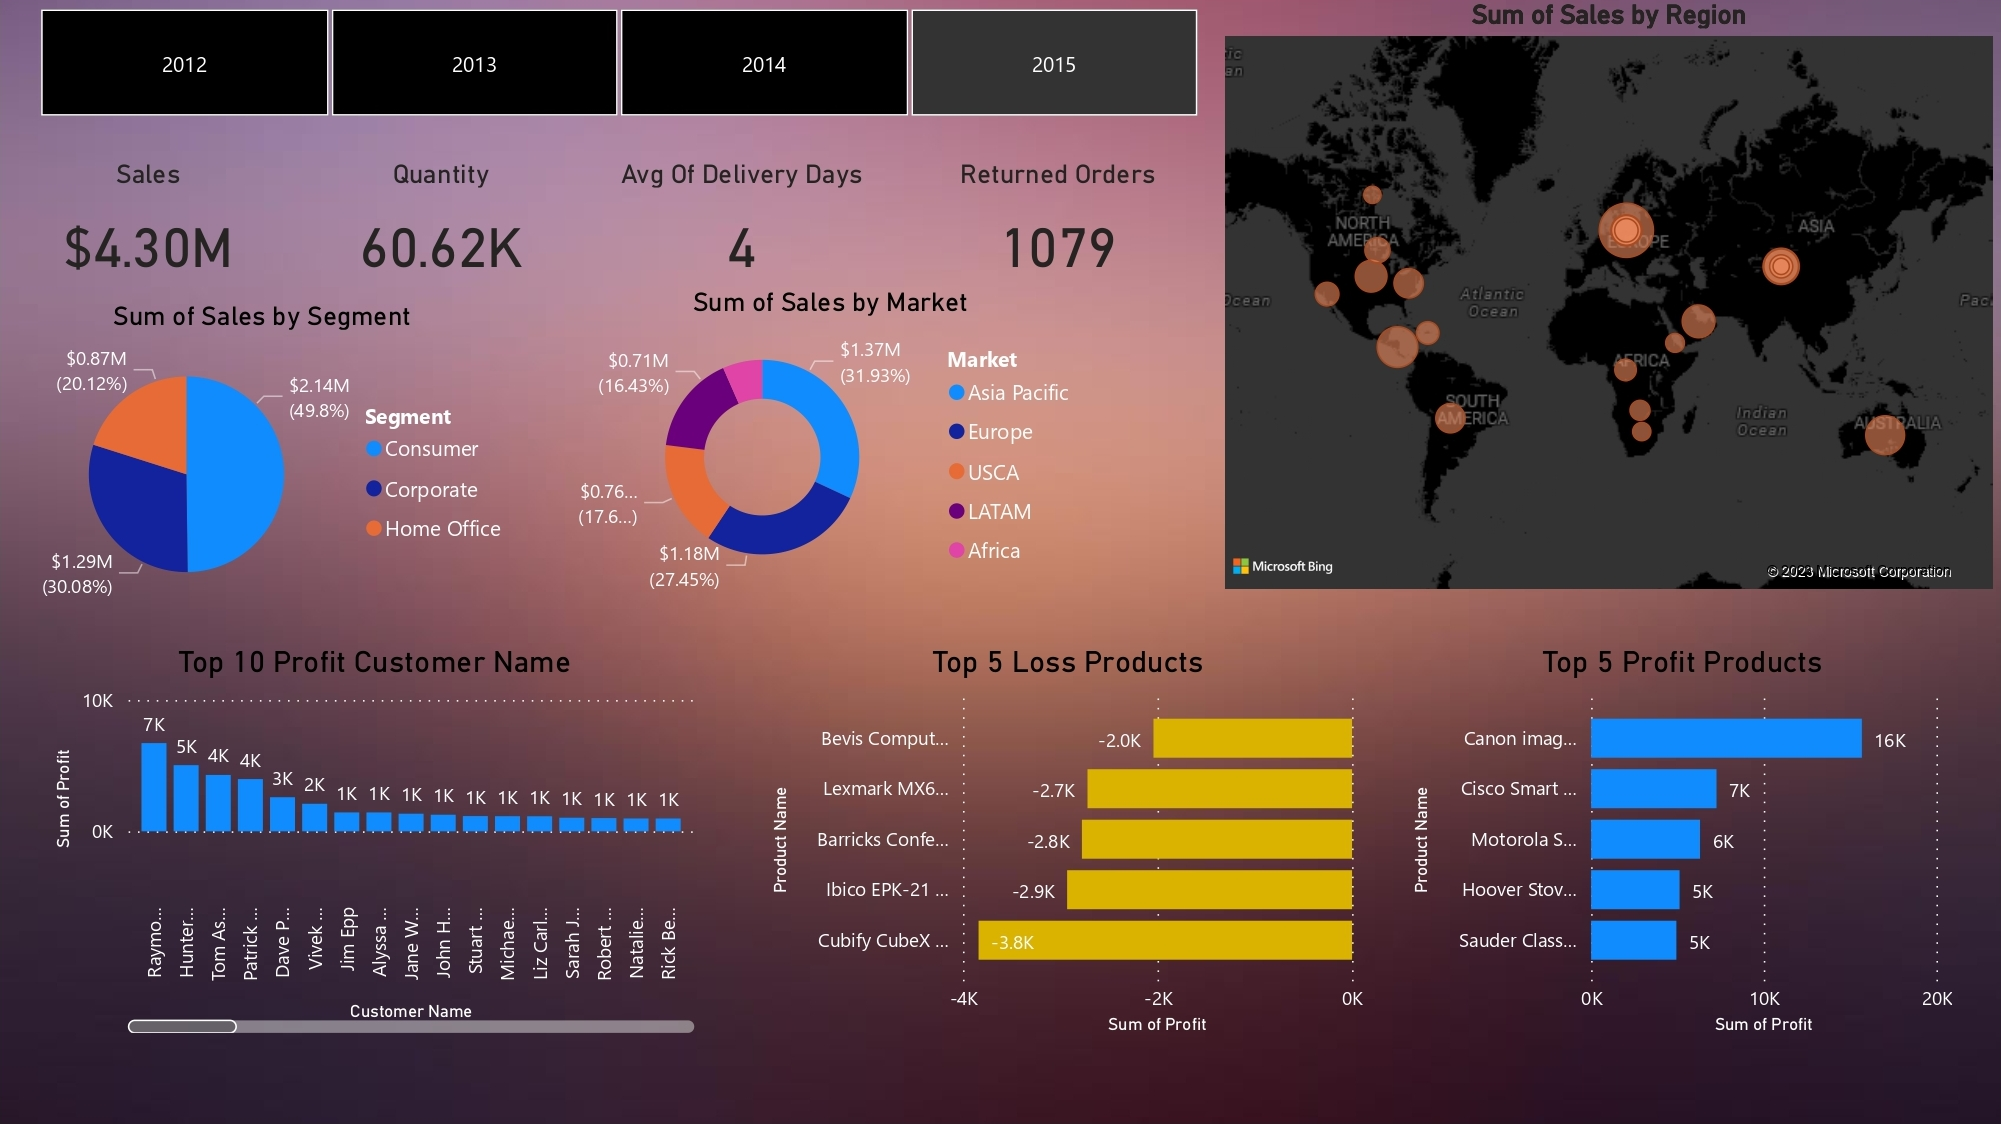

This screenshot's page, from the dashboard's own definition file:
{"tool":"powerbi","page":{"name":"Page 1","canvas":[1280,720],"ordinal":0},"visuals":[{"type":"card","title":"Sales","fields":{"Values":["Orders.Sales"]},"box":[0,101.5,189.4,90.6],"z":0},{"type":"card","title":"Quantity","fields":{"Values":["Orders.Quantity"]},"box":[189.4,101.5,185.2,90.6],"z":1000},{"type":"card","title":"Avg  Of Delivery Days","fields":{"Values":["Orders.Delivery Date"]},"box":[374.6,101.5,199,90.6],"z":2000},{"type":"slicer","fields":{"Values":["Orders.Year"]},"box":[0,0,790.4,82.3],"z":3000},{"type":"card","title":"Returned Orders","fields":{"Values":["Returns.Return Orders"]},"box":[573.6,101.5,205.8,90.6],"z":4000},{"type":"map","fields":{"Size":["Orders.Sales"],"Category":["Orders.Region"]},"box":[779.4,0,500.9,382.8],"z":5000},{"type":"barChart","title":"Top 5 Profit Products","fields":{"Y":["Orders.Profit"],"Category":["Orders.Product Name"]},"box":[898.8,413,355.4,253.9],"z":6000},{"type":"barChart","title":"Top 5 Loss Products","fields":{"Y":["Orders.Profit"],"Category":["Orders.Product Name"]},"box":[488.5,413,388.3,253.9],"z":7000},{"type":"pieChart","fields":{"Category":["Orders.Segment"],"Y":["Orders.Sales"]},"box":[0,193.5,334.8,203.1],"z":8000},{"type":"donutChart","fields":{"Category":["Orders.Market"],"Y":["Orders.Sales"]},"box":[363.6,183.9,334.8,200.3],"z":9000},{"type":"map","fields":{"Size":["Orders.Sales"],"Category":["Orders.Region"]},"box":[779.1,0,500.9,382.8],"z":10000},{"type":"columnChart","title":"Top 10 Profit Customer Name","fields":{"Y":["Orders.Profit"],"Category":["Orders.Customer Name"]},"box":[30.2,413,418.5,253.9],"z":11000}]}

Visuals, with their boxes in screenshot pixels (x1, y1, x2, y2), scaled from the page's 1280x720 canvas onto the 2001x1124 screenshot:
"Sales" card: BBox(0, 158, 296, 300)
"Quantity" card: BBox(296, 158, 586, 300)
"Avg  Of Delivery Days" card: BBox(586, 158, 897, 300)
slicer - Orders.Year: BBox(0, 0, 1236, 128)
"Returned Orders" card: BBox(897, 158, 1218, 300)
map - Orders.Sales x Orders.Region: BBox(1218, 0, 2000, 598)
"Top 5 Profit Products" barChart: BBox(1405, 645, 1961, 1041)
"Top 5 Loss Products" barChart: BBox(764, 645, 1371, 1041)
pieChart - Orders.Segment x Orders.Sales: BBox(0, 302, 523, 619)
donutChart - Orders.Market x Orders.Sales: BBox(568, 287, 1092, 600)
map - Orders.Sales x Orders.Region: BBox(1218, 0, 2000, 598)
"Top 10 Profit Customer Name" columnChart: BBox(47, 645, 701, 1041)
